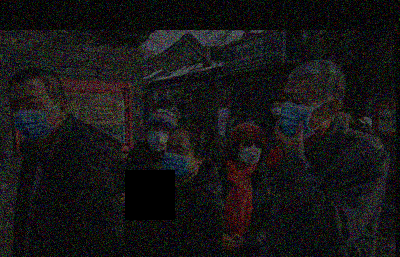with_mask: (281, 88, 326, 142), (9, 91, 56, 140), (161, 140, 194, 179), (236, 139, 261, 165), (146, 126, 171, 151), (272, 105, 283, 117), (239, 112, 249, 121)
